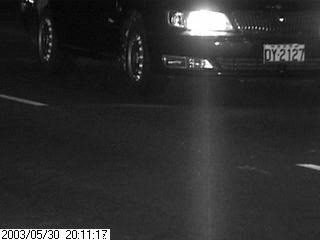plate: (261, 41, 306, 66)
